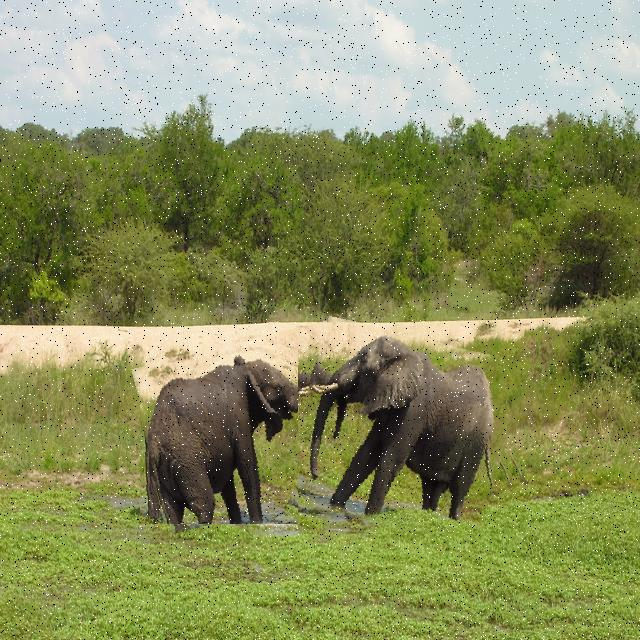elephant: (298, 326, 524, 534), (140, 332, 359, 524)
